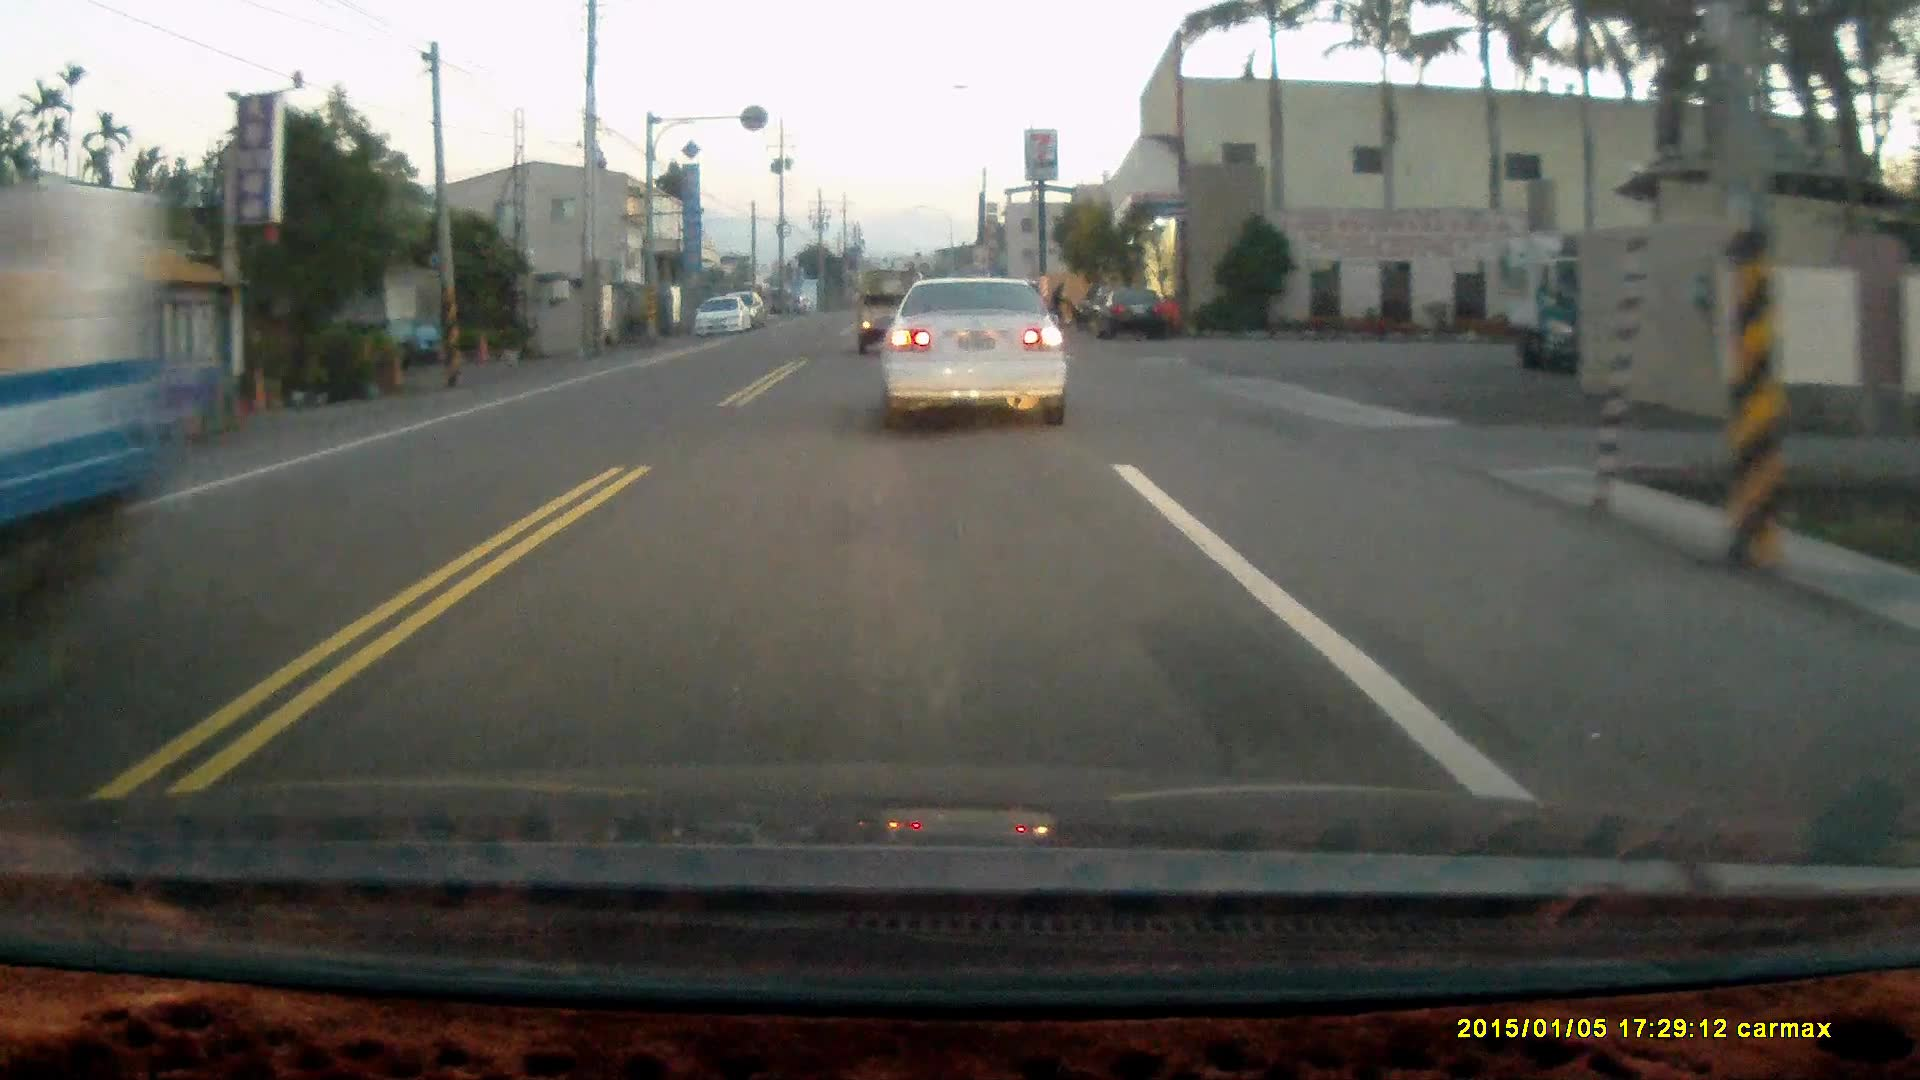rider: (1038, 278, 1084, 330)
vehicle: (1, 172, 178, 726), (887, 277, 1075, 436), (1497, 233, 1654, 381), (859, 274, 932, 363), (1091, 282, 1166, 341), (689, 290, 756, 342)
